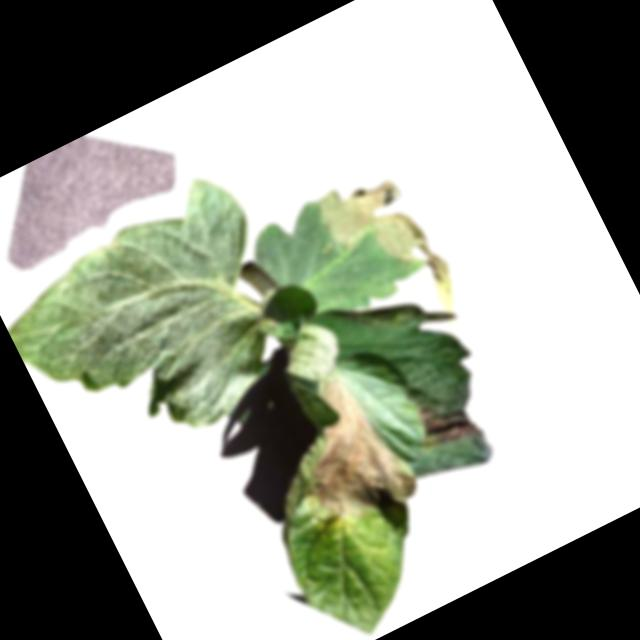Late_blight: (269, 366, 422, 538), (309, 158, 456, 324), (406, 388, 483, 460)
